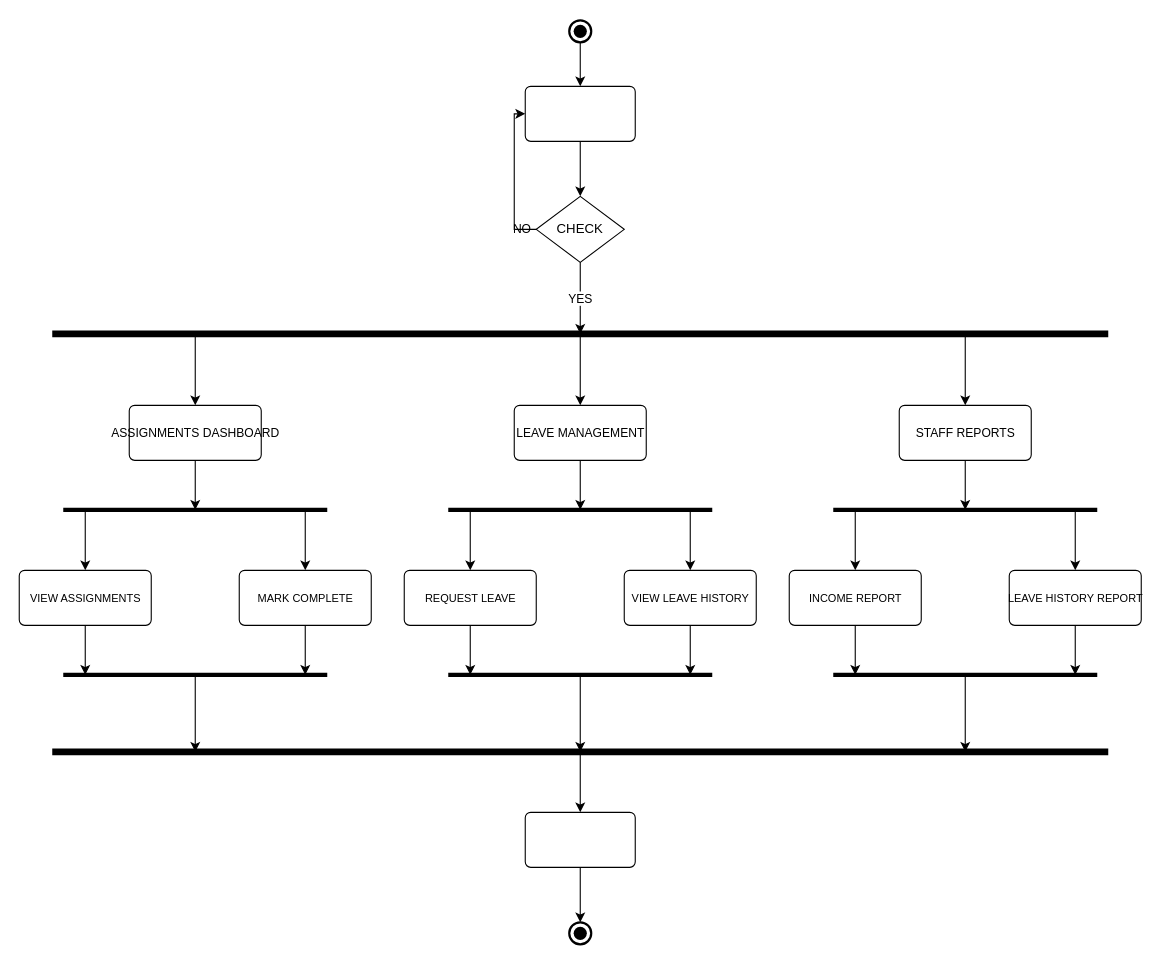
Image size: 1162x964. Some labels were removed from this diagram. Each missing label, with the box of its shape:
LOGIN: (524, 85, 635, 141)
LOGOUT: (524, 811, 635, 867)
